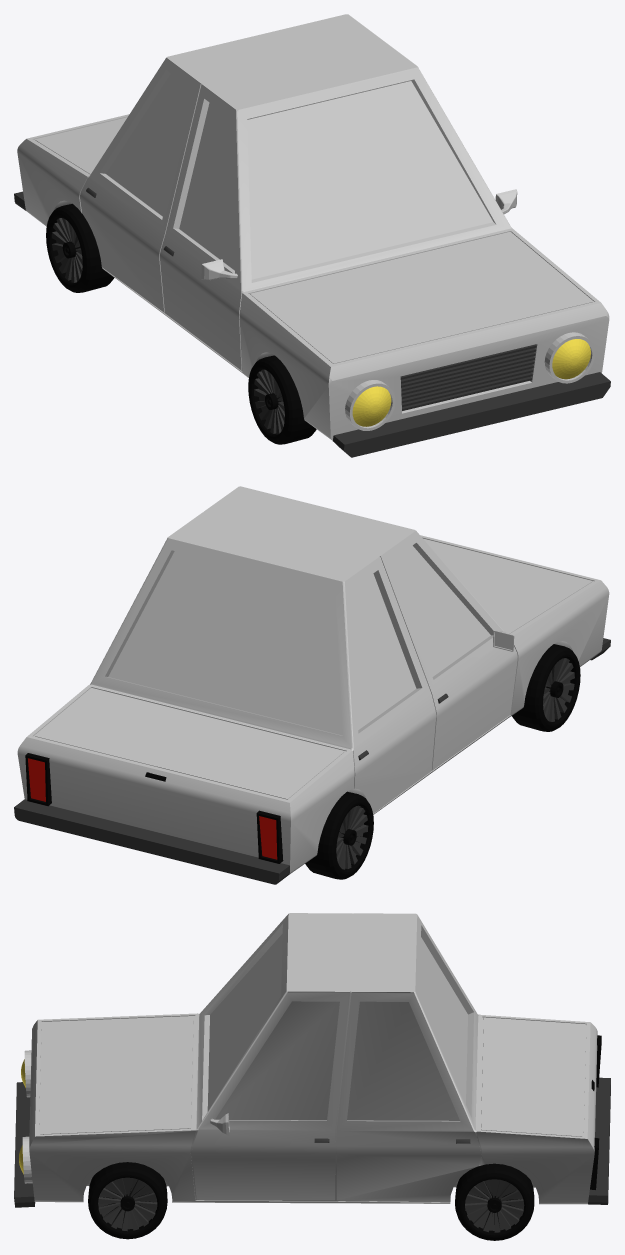
Rendered from car.obj.
The picture shows the model from 3 angles, top to bottom: view 1: azimuth 30°, elevation 25°; view 2: azimuth 150°, elevation 25°; view 3: azimuth 270°, elevation 25°; orthographic projection. The views are drawn at different scales.
Visible parts, largest first — view 1: car; view 2: car; view 3: car.
Boxes of the visible parts, <box> form: car: <box>14,14,610,457</box>; car: <box>14,486,610,884</box>; car: <box>14,913,610,1240</box>.
Size of the model in its own units: 2.16 by 1.67 by 4.
